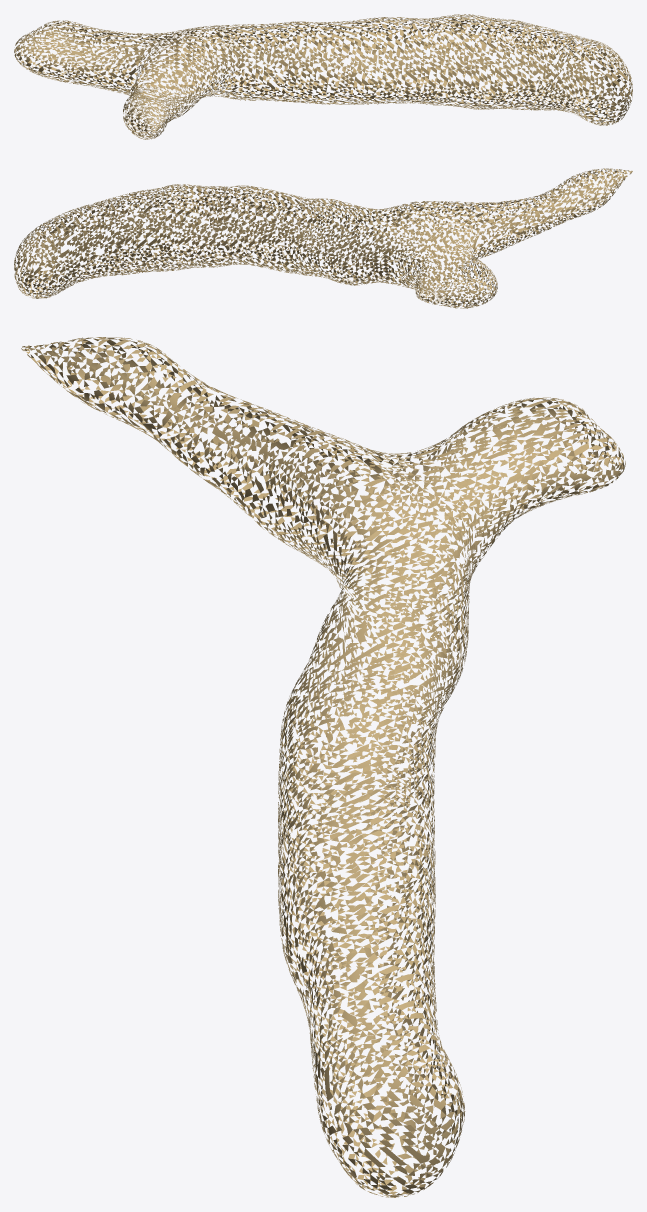
Rendered from morph_007.glb.
The picture shows the model from 3 angles, top to bottom: view 1: azimuth 30°, elevation 25°; view 2: azimuth 150°, elevation 25°; view 3: azimuth 270°, elevation 25°; orthographic projection. The views are drawn at different scales.
Bounding box in the file's own units: 111 × 39.14 × 56.05.
